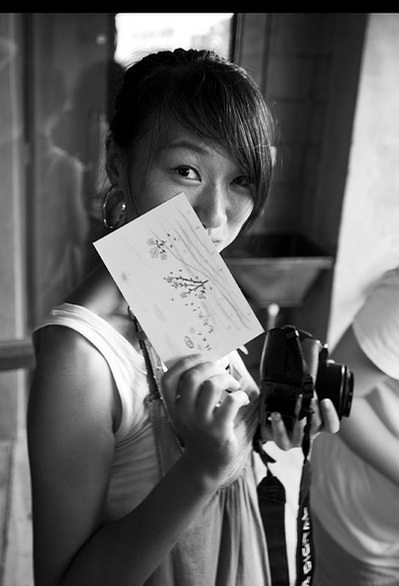face: (134, 103, 256, 271)
